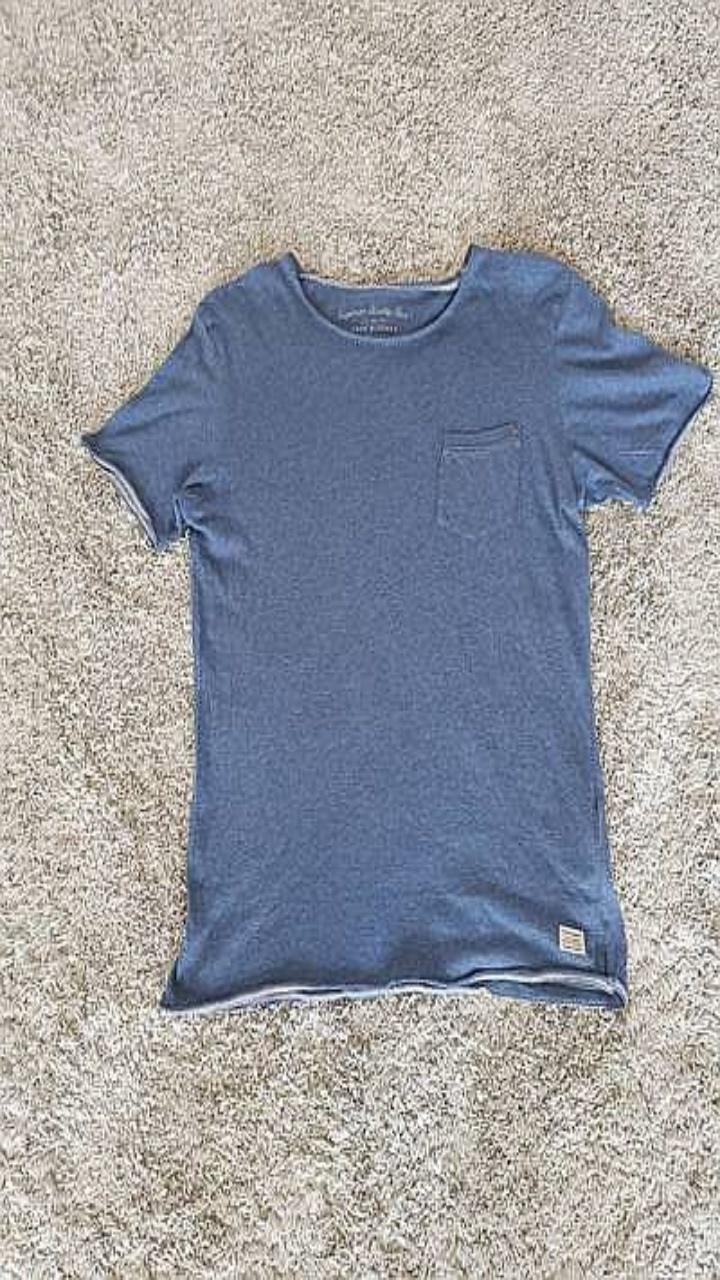T-Shirt: (77, 244, 711, 1012)
